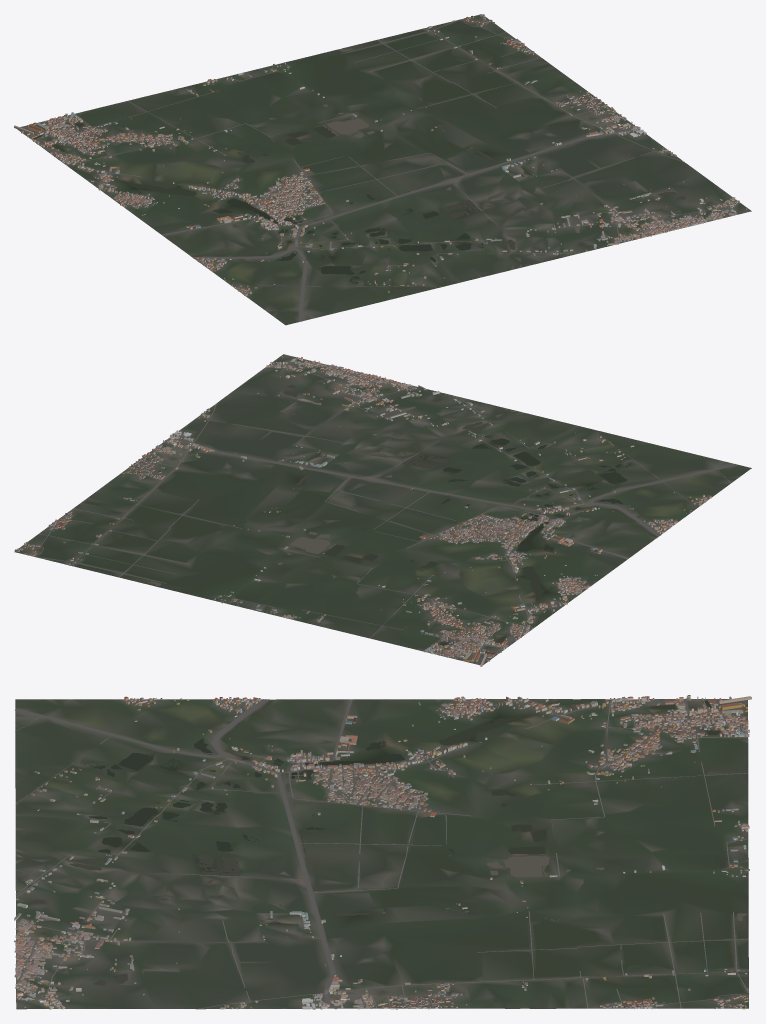
3 views of the same model, one above another, from view 1: azimuth 30°, elevation 25°; view 2: azimuth 150°, elevation 25°; view 3: azimuth 270°, elevation 25° (orthographic). The views are drawn at different scales.
Parts seen in each view (by area): view 1: ground, buildings, roads, water; view 2: ground, buildings, roads, water; view 3: ground, buildings, roads, water.
Boxes of the visible parts, x1,y1,x2,y2 form: ground: (16, 14, 751, 325); buildings: (14, 14, 747, 295); roads: (26, 19, 736, 321); water: (33, 28, 686, 283); ground: (14, 354, 751, 665); buildings: (14, 356, 711, 666); roads: (21, 363, 736, 658); water: (70, 384, 655, 653); ground: (15, 699, 748, 1009); buildings: (14, 695, 751, 1009); roads: (15, 698, 748, 1009); water: (33, 700, 748, 1009).
Bounding box in the file's own units: 2819 × 26.2 × 2823.
